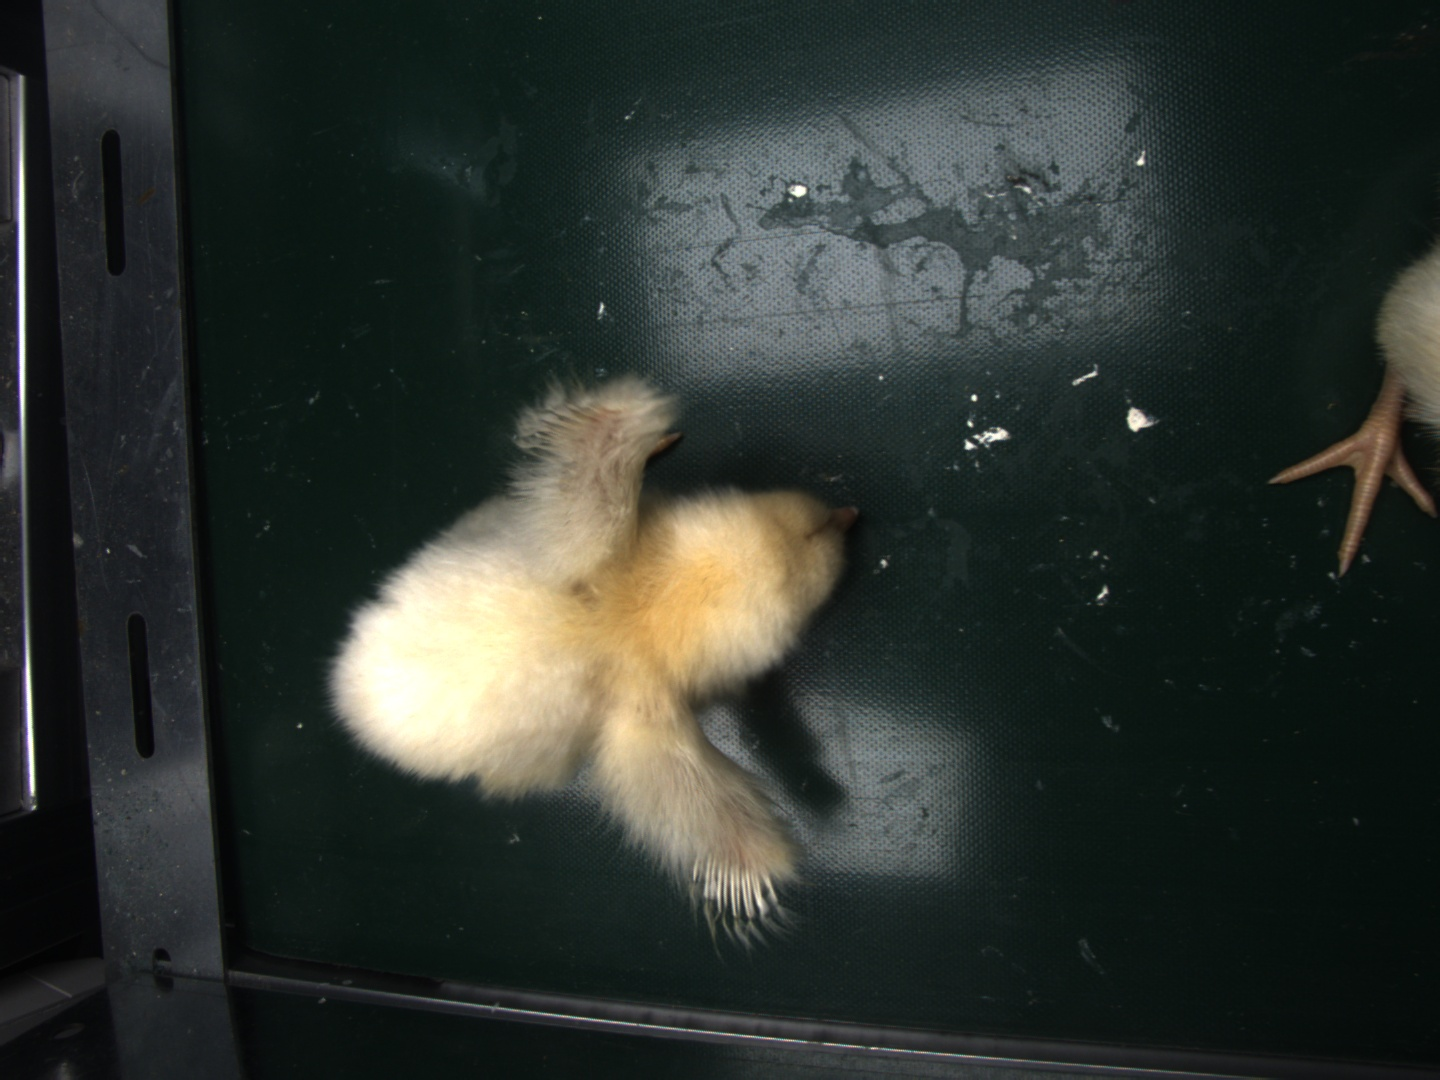male: (694, 847, 783, 923)
